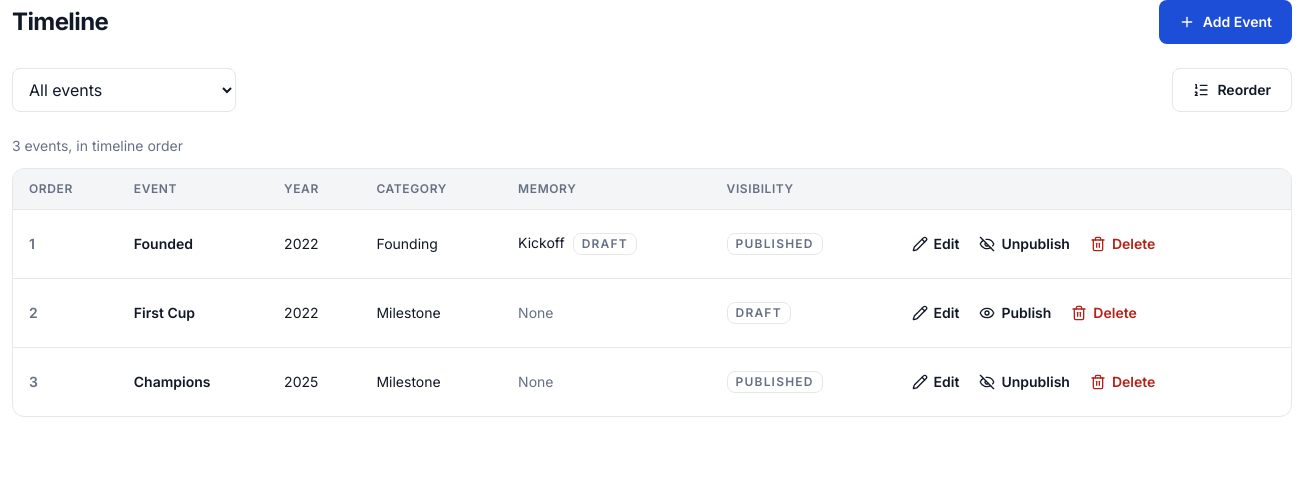
Scenario: AdminTimeline reorder › saves the whole order in one request
The image size is (1304, 504).
Expected: the table is shown, left=13, top=169, right=1291, bottom=416
Click the button "Reorder" at (1232, 90), box left=1172, top=68, right=1292, bottom=112
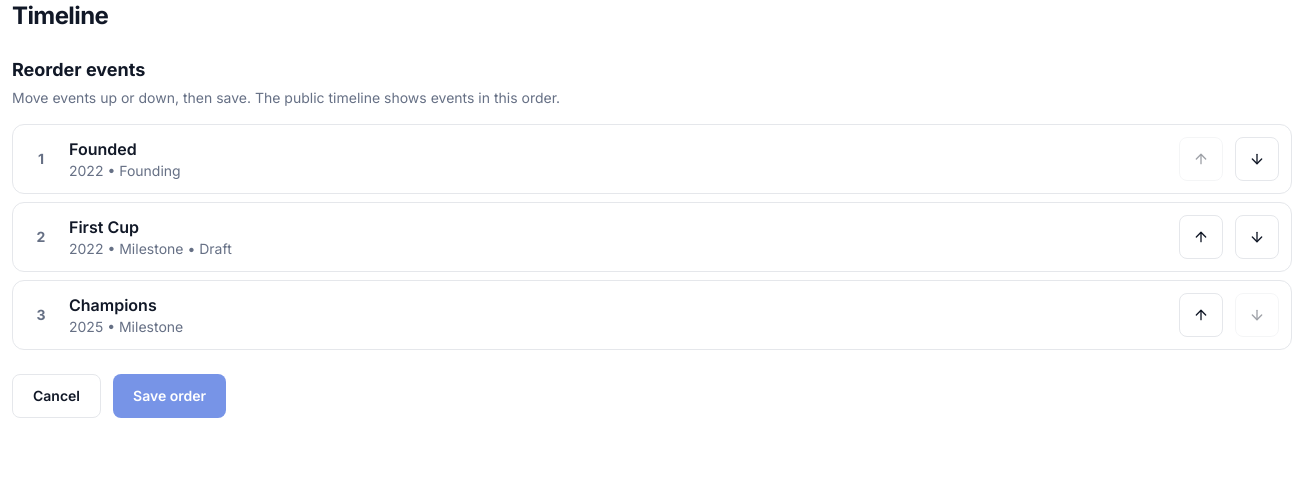
Click the button named "Move First Cup down" at (1257, 237), box left=1235, top=215, right=1279, bottom=259
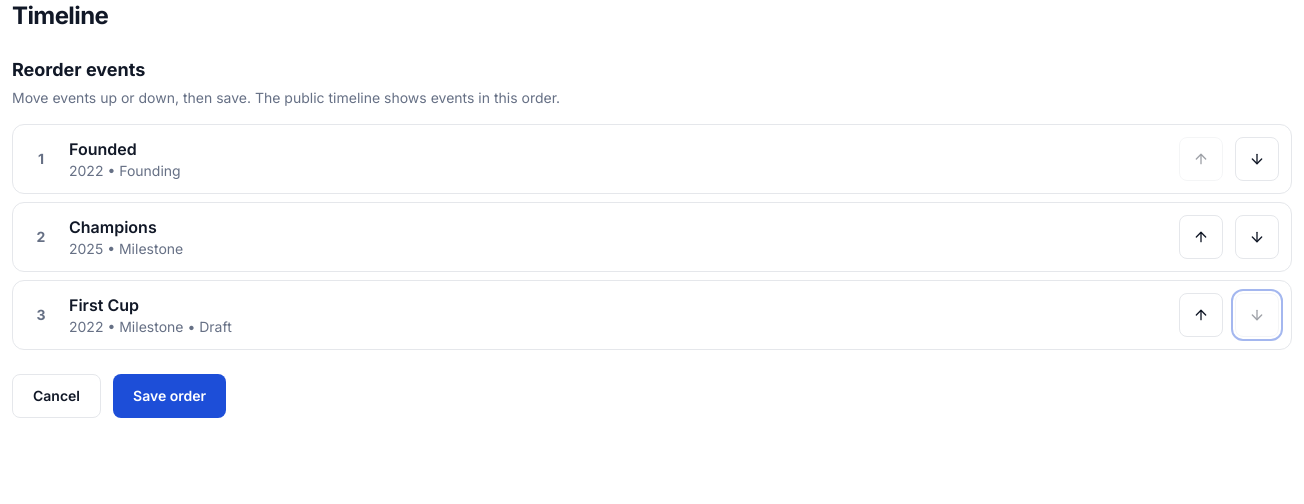
Click the button "Save order" at (170, 396), box left=113, top=374, right=226, bottom=418
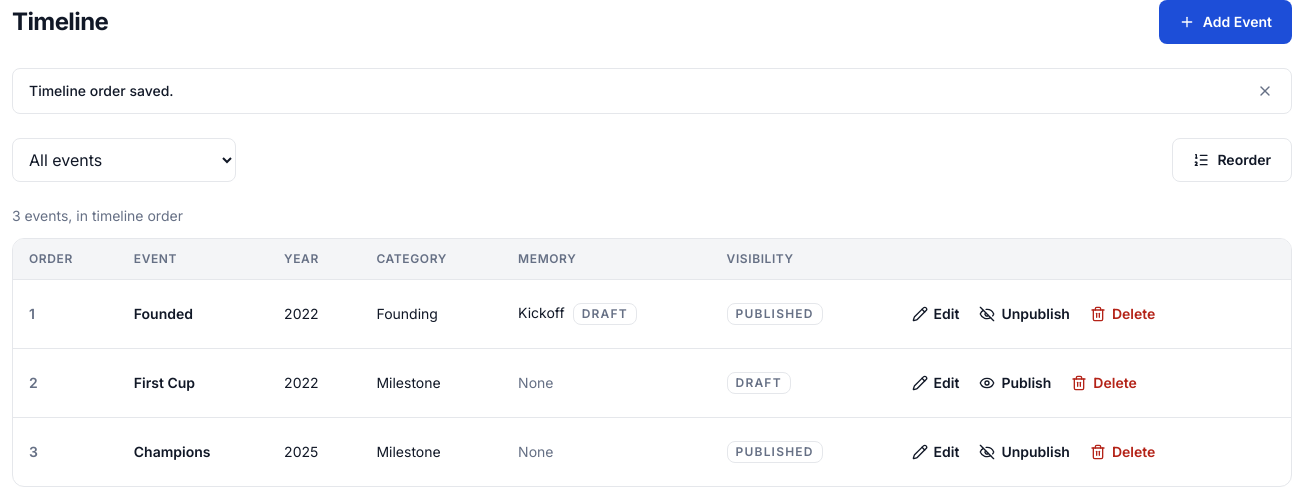
Expected: the text "Timeline order saved." is shown, left=29, top=81, right=174, bottom=101
